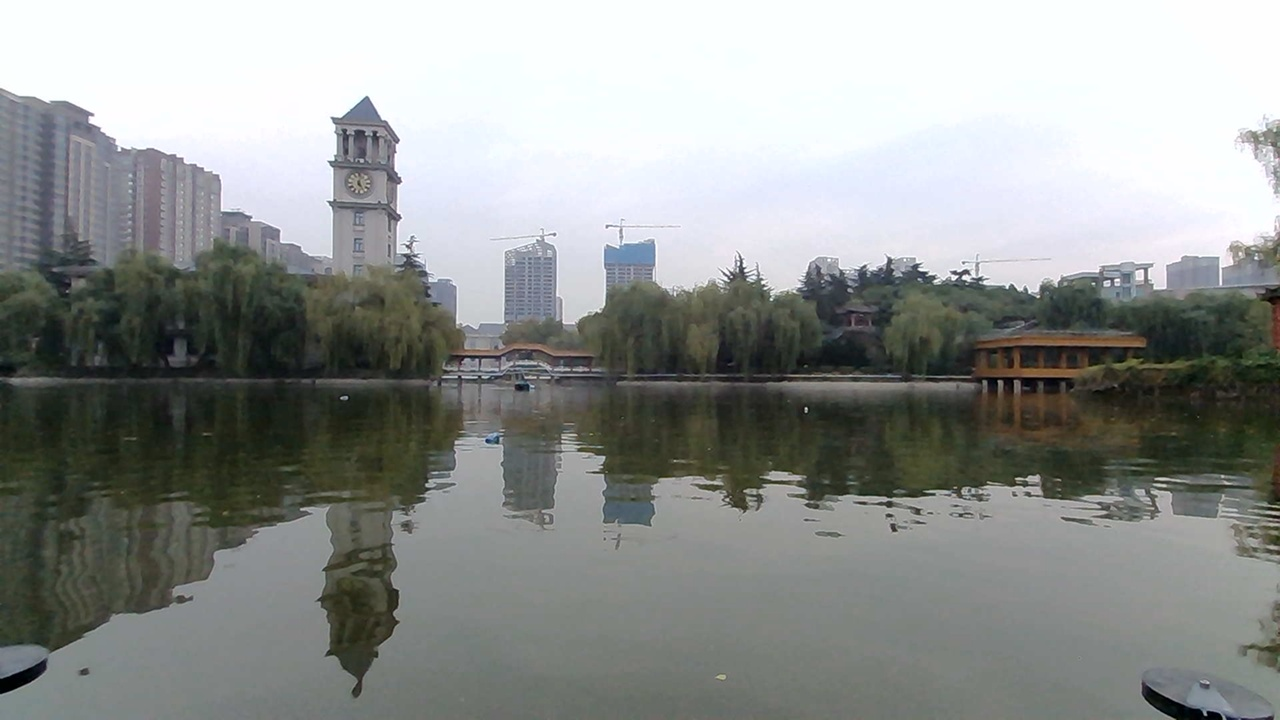bottle: (478, 421, 519, 450), (792, 397, 823, 418), (331, 387, 357, 406)
